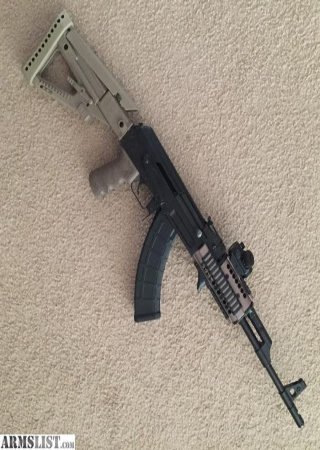rifle: (15, 1, 308, 431)
